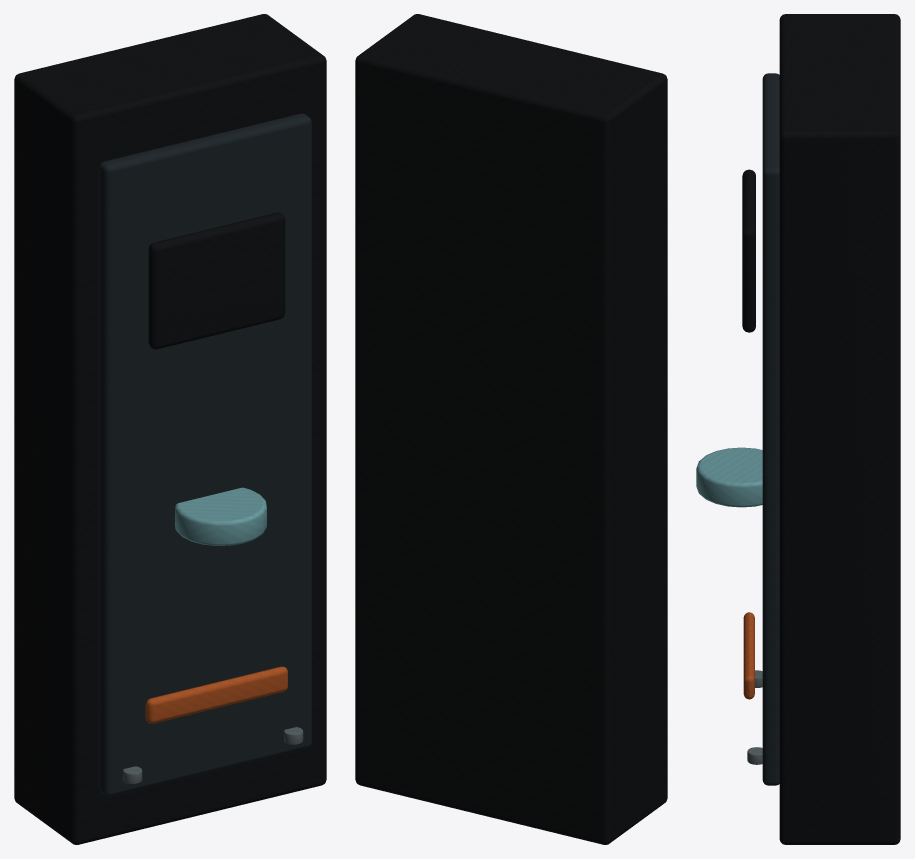
File: ElevatorCallPanel.fbx
The picture shows the model from 3 angles, left to right: view 1: azimuth 30°, elevation 25°; view 2: azimuth 150°, elevation 25°; view 3: azimuth 270°, elevation 25°; orthographic projection. The views are drawn at different scales.
Parts seen in each view (by area): view 1: ElevatorCallPanel_Mesh; view 2: ElevatorCallPanel_Mesh; view 3: ElevatorCallPanel_Mesh.
Boxes of the visible parts, box(x1,y1,x2,y2) form: ElevatorCallPanel_Mesh: box(14, 14, 326, 844); ElevatorCallPanel_Mesh: box(355, 14, 667, 844); ElevatorCallPanel_Mesh: box(696, 14, 900, 844).
Size of the model in its own units: 38 by 104 by 27.
